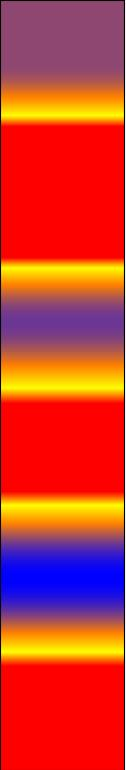Thermal Runaway: (7, 106, 120, 289), (11, 361, 115, 520), (15, 636, 110, 765)
critical: (9, 7, 116, 97), (5, 299, 118, 345), (12, 616, 115, 631), (13, 526, 106, 536)
safe: (9, 544, 111, 610)
